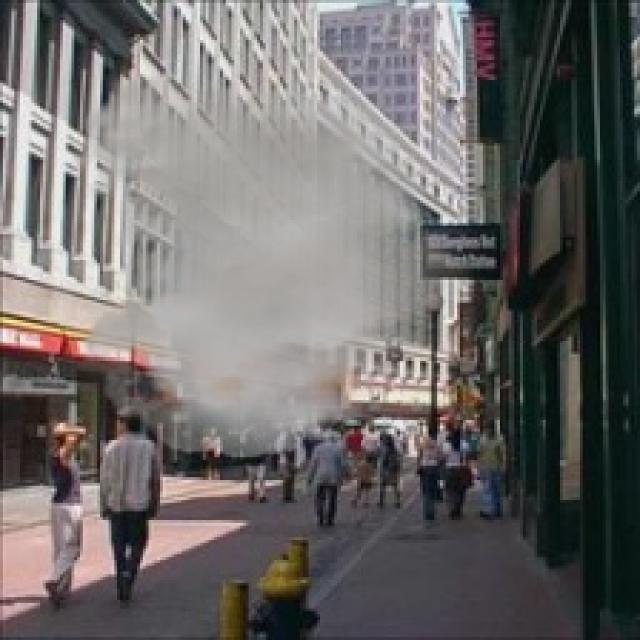Smoke: (68, 72, 483, 457)
